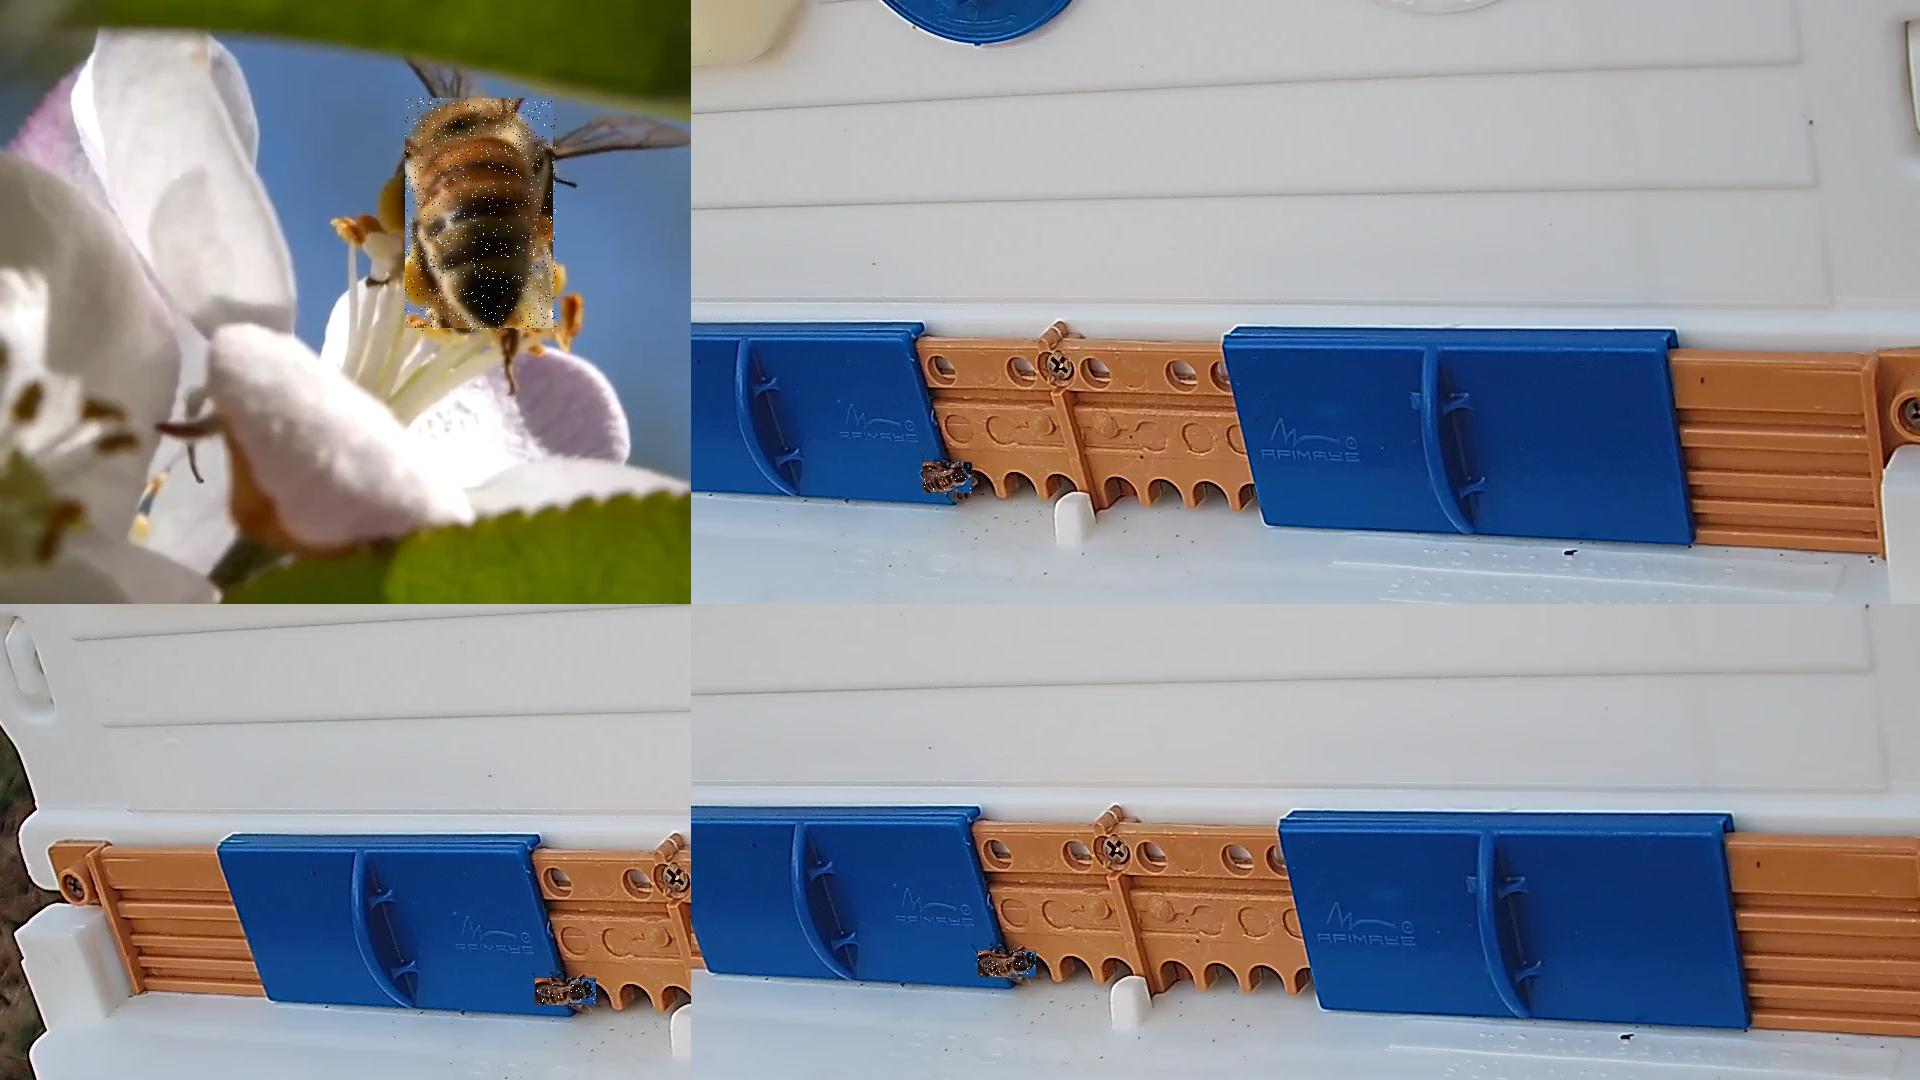bee: (923, 463, 973, 497), (535, 978, 597, 1006), (978, 951, 1038, 978)
pollenbee: (406, 99, 558, 332)
